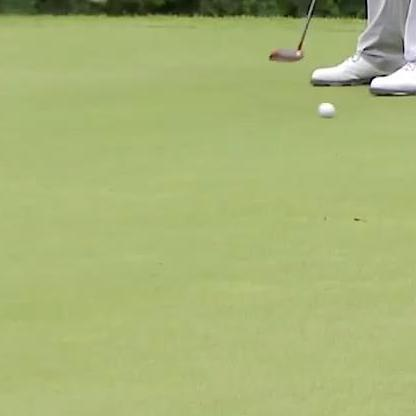golfball: (315, 99, 335, 117)
